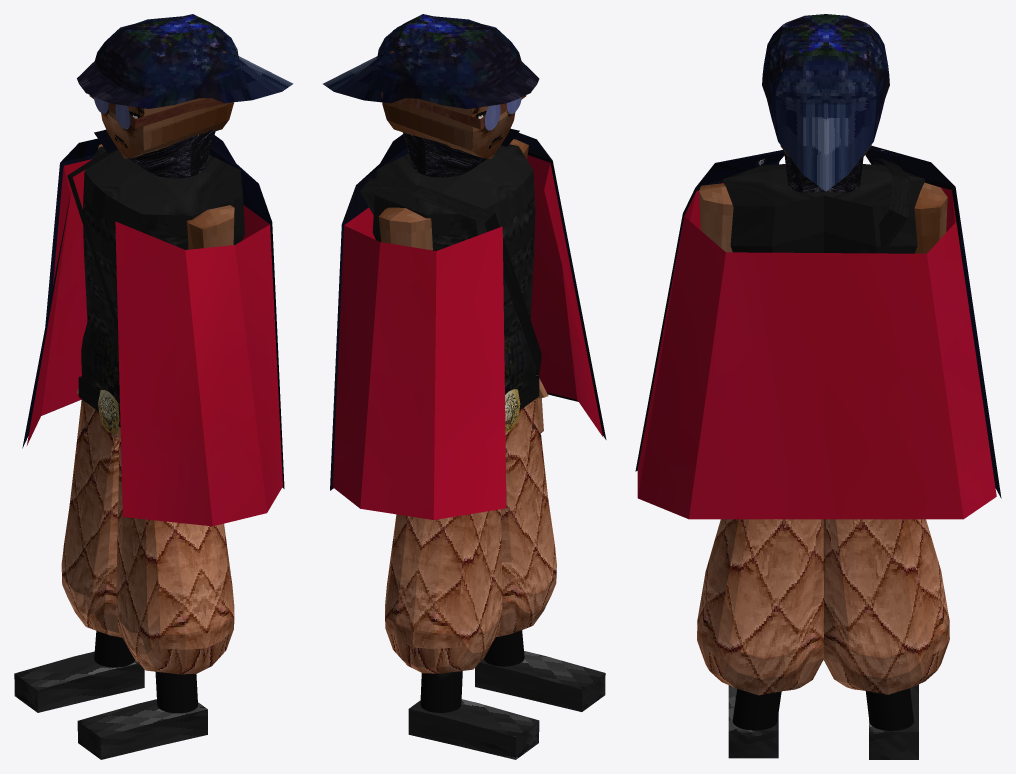
The model's file is Soldado_Calidora_2.glb.
The picture shows the model from 3 angles, left to right: view 1: azimuth 30°, elevation 25°; view 2: azimuth 150°, elevation 25°; view 3: azimuth 270°, elevation 25°; orthographic projection. The views are drawn at different scales.
Parts seen in each view (by area): view 1: Corpo; view 2: Corpo; view 3: Corpo.
Boxes of the visible parts, bbox=[...] form: Corpo: bbox=[14, 14, 293, 759]; Corpo: bbox=[323, 14, 606, 759]; Corpo: bbox=[635, 14, 1001, 759].
Size of the model in its own units: 4.39 by 11.89 by 5.4.
12 materials, 12 textured.
